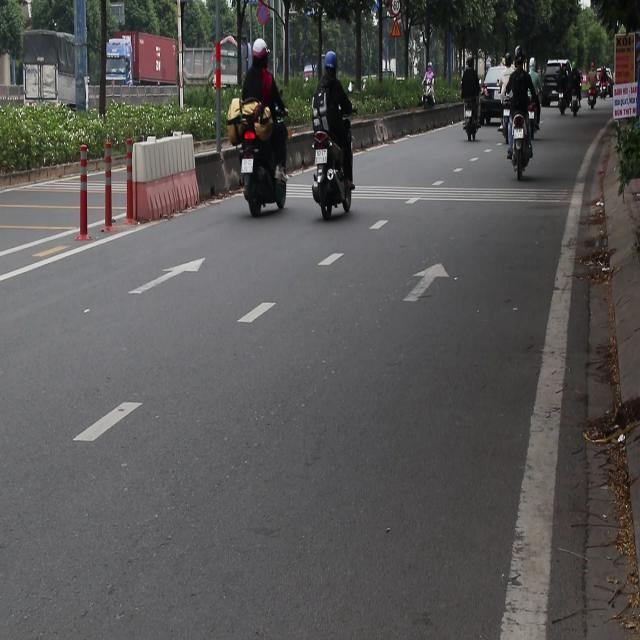car: (540, 60, 570, 106), (483, 65, 516, 101)
motorbike: (241, 111, 291, 215), (311, 121, 354, 220), (506, 115, 532, 167), (421, 70, 442, 115), (462, 101, 479, 140), (530, 85, 540, 144), (558, 78, 570, 120), (573, 83, 585, 122), (586, 85, 597, 110)
truck: (98, 25, 180, 112), (23, 30, 90, 121), (182, 29, 251, 110)
